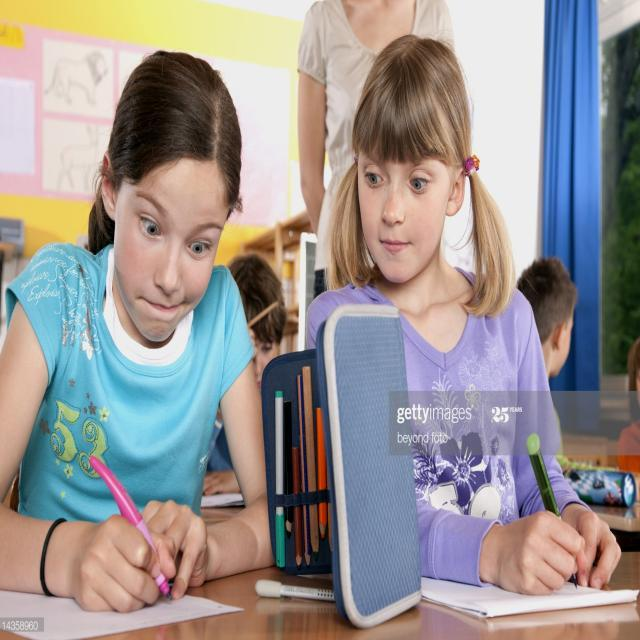cheating: (307, 30, 572, 396)
good: (0, 39, 279, 640)
